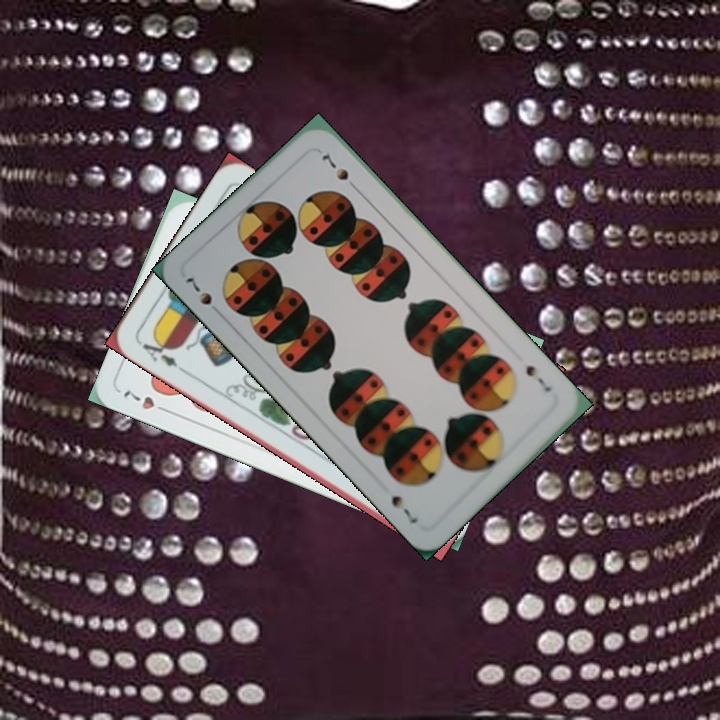EA: (135, 333, 188, 376)
H7: (119, 386, 173, 417)
S7: (182, 273, 226, 320), (522, 361, 555, 395)
